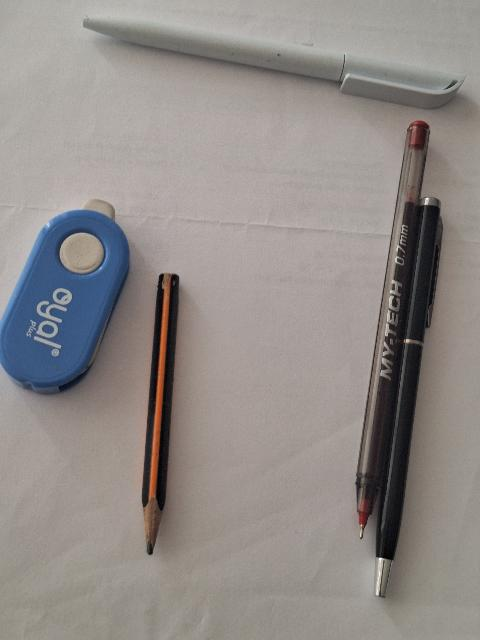writing_tool: (77, 14, 460, 111), (353, 119, 431, 541), (376, 197, 446, 599), (141, 270, 185, 554)
